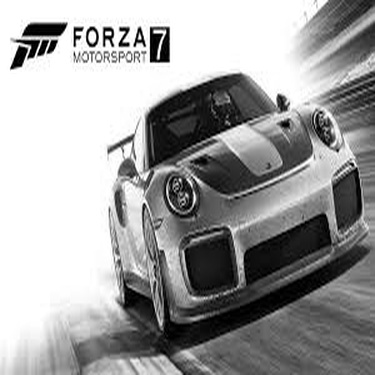car: (97, 65, 372, 338)
